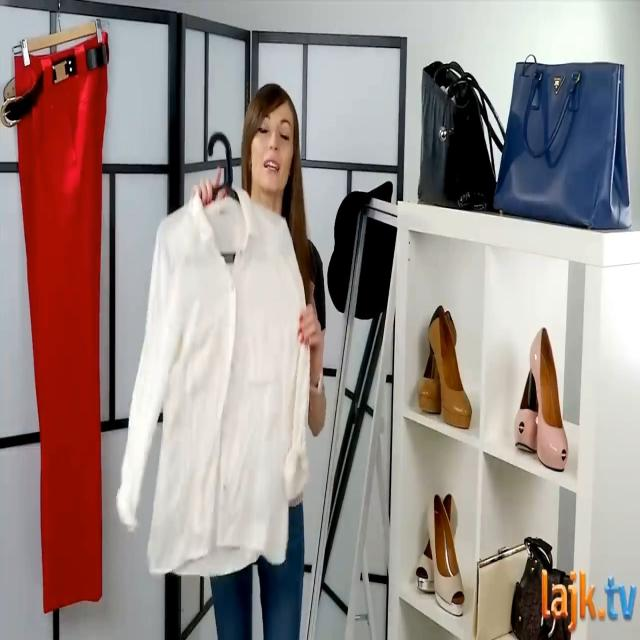Shirt: (115, 180, 311, 577)
